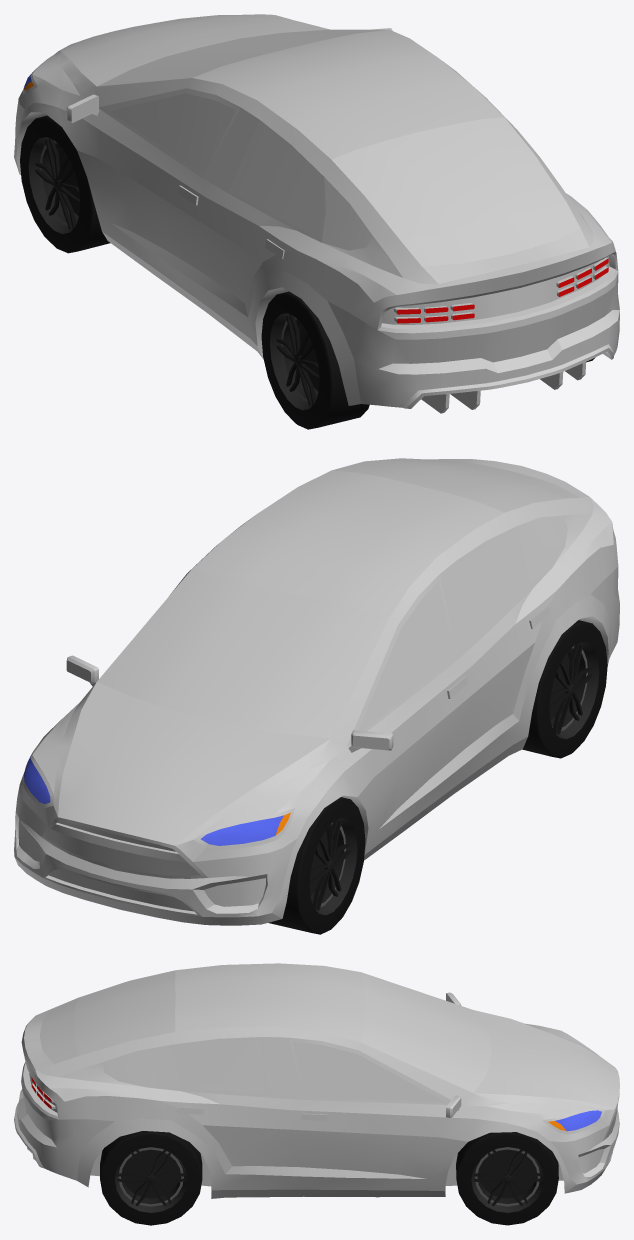
Rendered from Car_01.fbx.
3 renders of one model, top to bottom at view 1: azimuth 30°, elevation 25°; view 2: azimuth 150°, elevation 25°; view 3: azimuth 270°, elevation 25°, orthographic. The views are drawn at different scales.
Parts seen in each view (by area): view 1: CR_1_Body, CR_1_Wheel_BL, CR_1_Wheel_FL; view 2: CR_1_Body, CR_1_Wheel_FL, CR_1_Wheel_BL; view 3: CR_1_Body, CR_1_Wheel_BR, CR_1_Wheel_FR.
Part boxes in pixels (x1,y1,x2,y2): CR_1_Body: [14, 14, 619, 413]; CR_1_Wheel_BL: [261, 291, 369, 429]; CR_1_Wheel_FL: [20, 115, 110, 253]; CR_1_Body: [14, 458, 619, 925]; CR_1_Wheel_FL: [268, 797, 365, 934]; CR_1_Wheel_BL: [522, 620, 607, 758]; CR_1_Body: [14, 963, 619, 1198]; CR_1_Wheel_BR: [100, 1131, 202, 1225]; CR_1_Wheel_FR: [456, 1132, 558, 1225].
Size of the model in its own units: 226 by 169 by 500.
